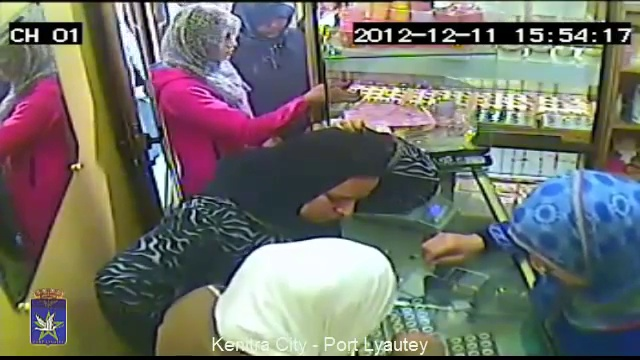face: (294, 171, 371, 224)
